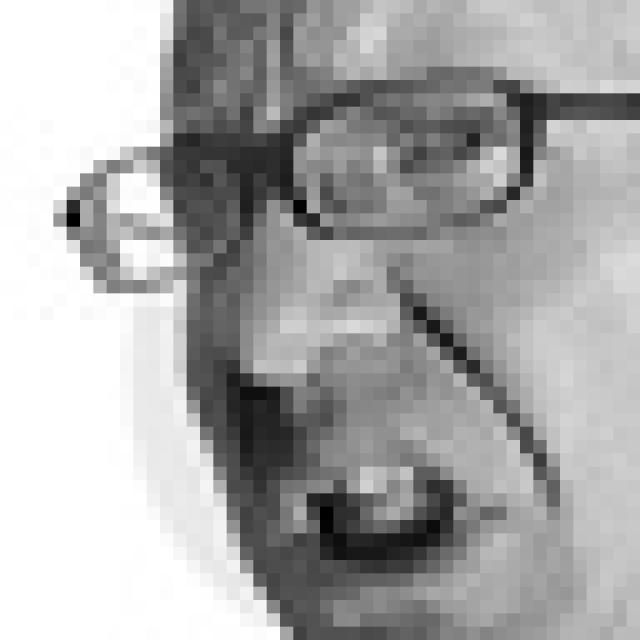disgust: (172, 66, 520, 608)
